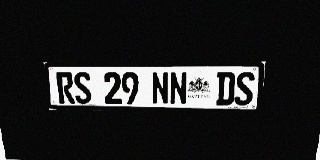2: (103, 72, 122, 104)
9: (121, 72, 139, 104)
D: (216, 72, 236, 105)
N: (151, 72, 169, 105), (169, 72, 187, 105)
R: (56, 72, 75, 104)
S: (234, 72, 255, 106), (73, 72, 92, 104)
